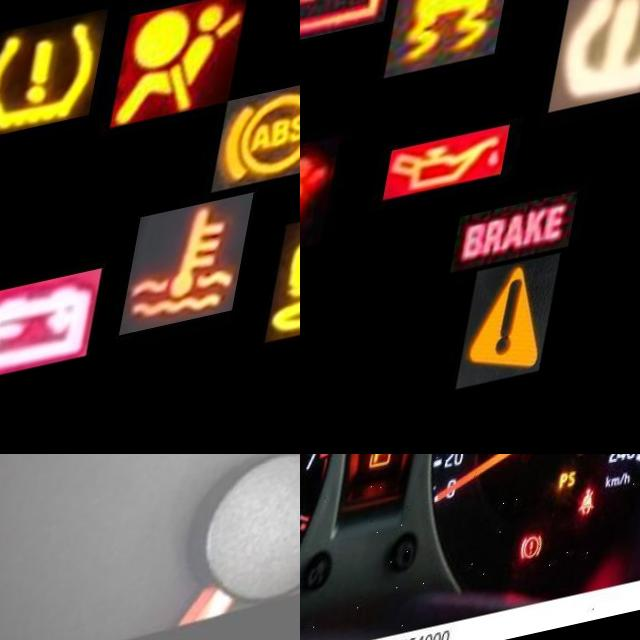Central Warning lamp: (480, 271, 580, 404)
Engine cooling system: (136, 207, 266, 345)
